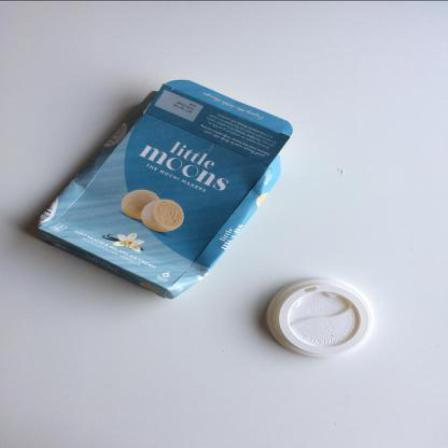Carton: (38, 81, 294, 300)
Lid: (267, 278, 379, 360)
